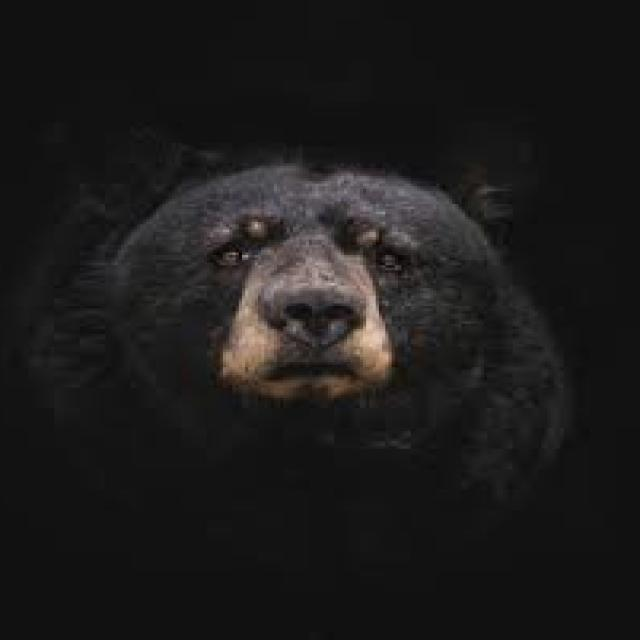bear: (32, 127, 573, 556)
